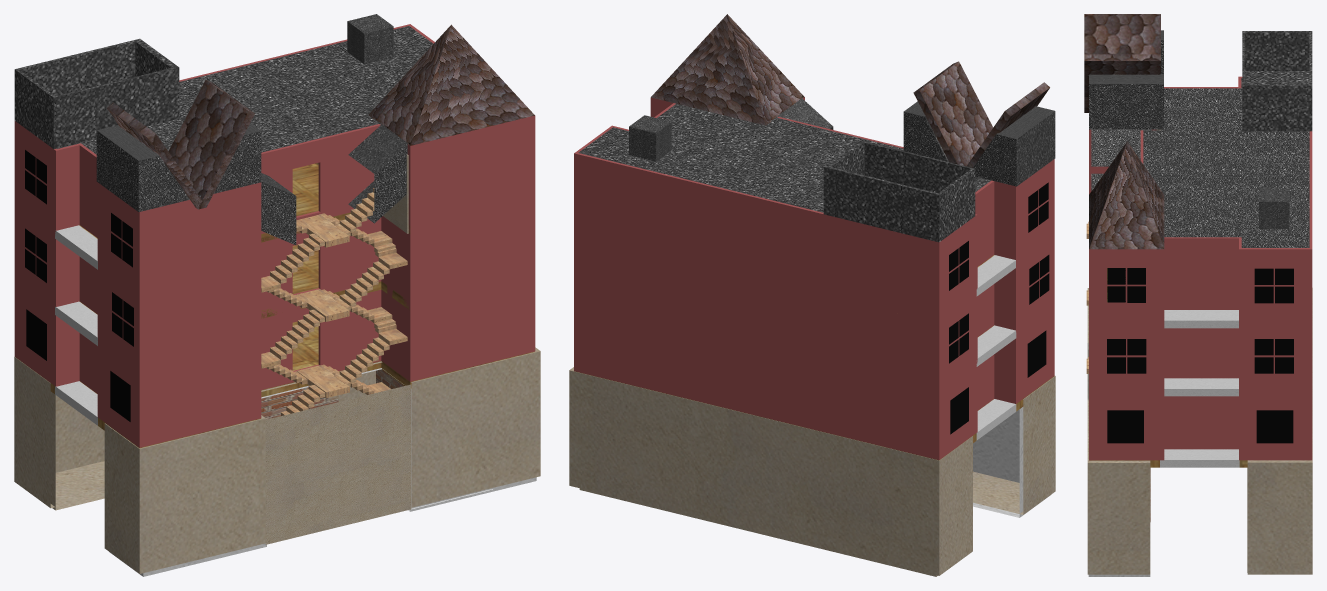
The model's file is finalized sammy building.fbx.
3 views of the same model, side by side, from view 1: azimuth 30°, elevation 25°; view 2: azimuth 150°, elevation 25°; view 3: azimuth 270°, elevation 25° (orthographic). The views are drawn at different scales.
Parts seen in each view (by area): view 1: exterior wall top, first floor wall, bottom floor, Base floor 4, Stairs, 1st Walls, A_BRIDGE, Object_135, Object_72; view 2: exterior wall top, bottom floor, first floor wall, Base floor 4, A_BRIDGE, 1st Walls; view 3: exterior wall top, Base floor 4, first floor wall, bottom floor, 1st Walls, A_BRIDGE.
Part boxes in pixels (left/top/right/bottom): exterior wall top: left=14, top=24, right=535, bottom=447; first floor wall: left=14, top=14, right=534, bottom=544; bottom floor: left=14, top=347, right=540, bottom=576; Base floor 4: left=15, top=26, right=534, bottom=448; Stairs: left=261, top=188, right=407, bottom=415; 1st Walls: left=25, top=150, right=349, bottom=421; A_BRIDGE: left=107, top=80, right=254, bottom=209; Object_135: left=261, top=387, right=338, bottom=419; Object_72: left=383, top=154, right=408, bottom=233; exterior wall top: left=574, top=97, right=1054, bottom=459; bottom floor: left=569, top=367, right=1055, bottom=576; first floor wall: left=629, top=14, right=1055, bottom=242; Base floor 4: left=575, top=103, right=1054, bottom=460; A_BRIDGE: left=913, top=61, right=1049, bottom=167; 1st Walls: left=949, top=182, right=1049, bottom=434; exterior wall top: left=1089, top=76, right=1312, bottom=460; Base floor 4: left=1089, top=78, right=1309, bottom=467; first floor wall: left=1089, top=30, right=1312, bottom=249; bottom floor: left=1087, top=288, right=1312, bottom=576; 1st Walls: left=1086, top=223, right=1293, bottom=443; A_BRIDGE: left=1084, top=14, right=1160, bottom=112.
Size of the model in its own units: 632 by 689 by 349.
Materials: 22 (19 with a texture image).
